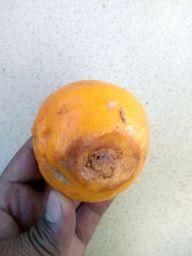Unripe: (29, 79, 150, 201)
